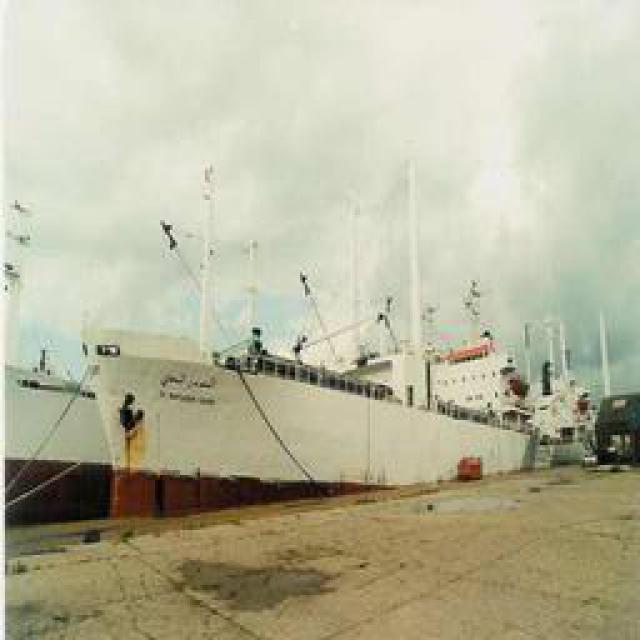Ship: (76, 147, 538, 527)
